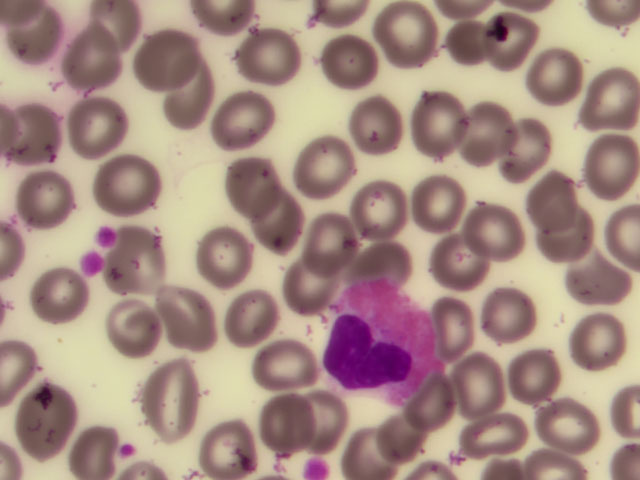Platelets: (304, 458, 332, 480), (80, 252, 103, 272), (94, 226, 115, 244), (120, 446, 134, 456)
RBC: (5, 2, 62, 64), (64, 31, 121, 93), (132, 22, 189, 84), (160, 66, 217, 128), (69, 98, 126, 160), (1, 104, 58, 166), (21, 166, 78, 228), (96, 159, 153, 221), (217, 91, 274, 153), (240, 27, 297, 89), (320, 31, 377, 93), (378, 6, 435, 68), (433, 18, 490, 80), (488, 14, 545, 76), (530, 47, 587, 109), (583, 59, 640, 121), (583, 131, 640, 193), (565, 251, 622, 313), (565, 299, 622, 361), (537, 391, 594, 453), (462, 409, 519, 471), (457, 354, 514, 416), (506, 348, 563, 410), (429, 293, 486, 355), (491, 284, 548, 346), (436, 234, 493, 296), (460, 204, 517, 266), (413, 167, 470, 229), (494, 115, 551, 177), (523, 165, 580, 227), (545, 202, 602, 264), (462, 102, 519, 164), (406, 92, 463, 154), (345, 91, 402, 153), (288, 135, 345, 197), (349, 169, 406, 231), (304, 213, 361, 275), (272, 253, 329, 315), (356, 226, 413, 288), (226, 281, 283, 343), (188, 224, 245, 286), (258, 192, 315, 254), (230, 159, 287, 221), (112, 230, 169, 292), (161, 289, 218, 351), (102, 297, 159, 359), (30, 267, 87, 329), (16, 389, 73, 451), (61, 418, 118, 480), (147, 367, 204, 429), (209, 418, 266, 480), (258, 390, 315, 452), (302, 389, 359, 451), (260, 334, 317, 396), (336, 418, 393, 480), (367, 407, 424, 469), (404, 379, 461, 441)
WBC: (323, 281, 441, 400)
